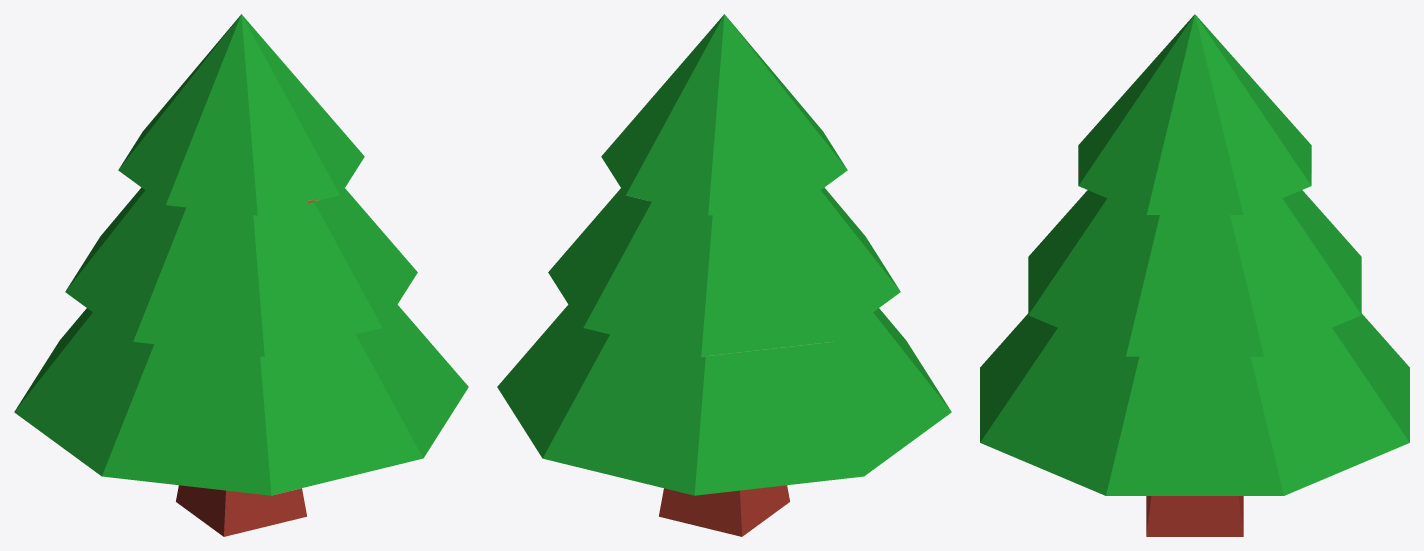
3 renders of one model, left to right at view 1: azimuth 30°, elevation 25°; view 2: azimuth 150°, elevation 25°; view 3: azimuth 270°, elevation 25°, orthographic.
Visible parts, largest first — view 1: 立方体; view 2: 立方体; view 3: 立方体.
Boxes of the visible parts, <box> form: 立方体: <box>14,14,468,536</box>; 立方体: <box>497,14,951,536</box>; 立方体: <box>980,14,1409,536</box>.
Size of the model in its own units: 1.81 by 2.33 by 1.81.
